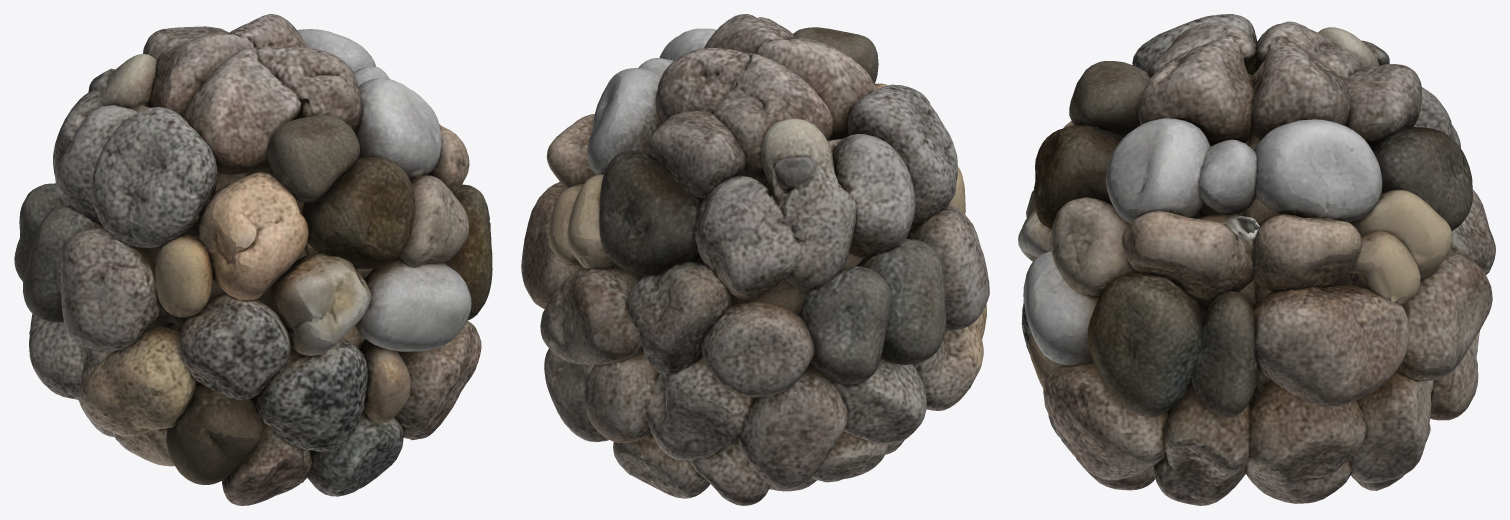
The model's file is stream-cobble-cluster-v21.glb.
3 renders of one model, left to right at view 1: azimuth 30°, elevation 25°; view 2: azimuth 150°, elevation 25°; view 3: azimuth 270°, elevation 25°, orthographic. The views are drawn at different scales.
Parts seen in each view (by area): view 1: geometry_0; view 2: geometry_0; view 3: geometry_0.
Part boxes in pixels (x1,y1,x2,y2): geometry_0: (14,14,492,505); geometry_0: (521,14,989,505); geometry_0: (1018,14,1495,505).
Size of the model in its own units: 0.35 by 0.3484 by 0.3453.
1 material, 1 textured.
